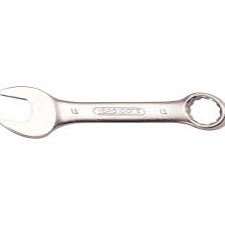Wrench: (1, 71, 225, 139)
